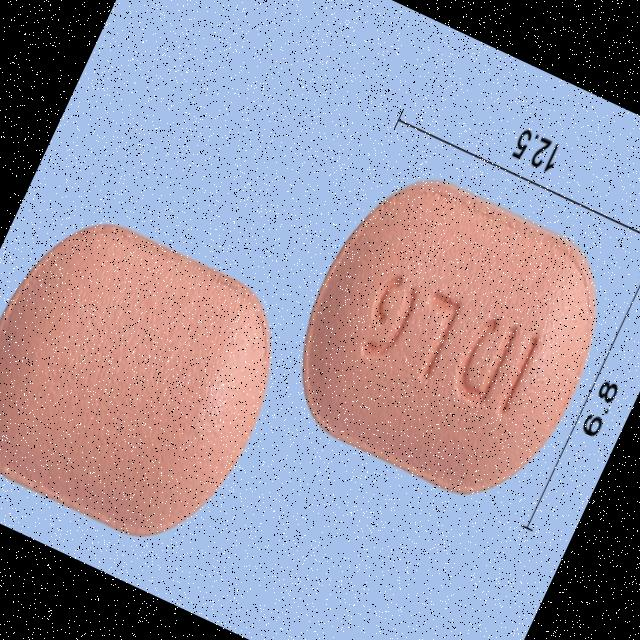Levofexin - 500mg: (264, 152, 632, 521), (0, 198, 307, 566)
